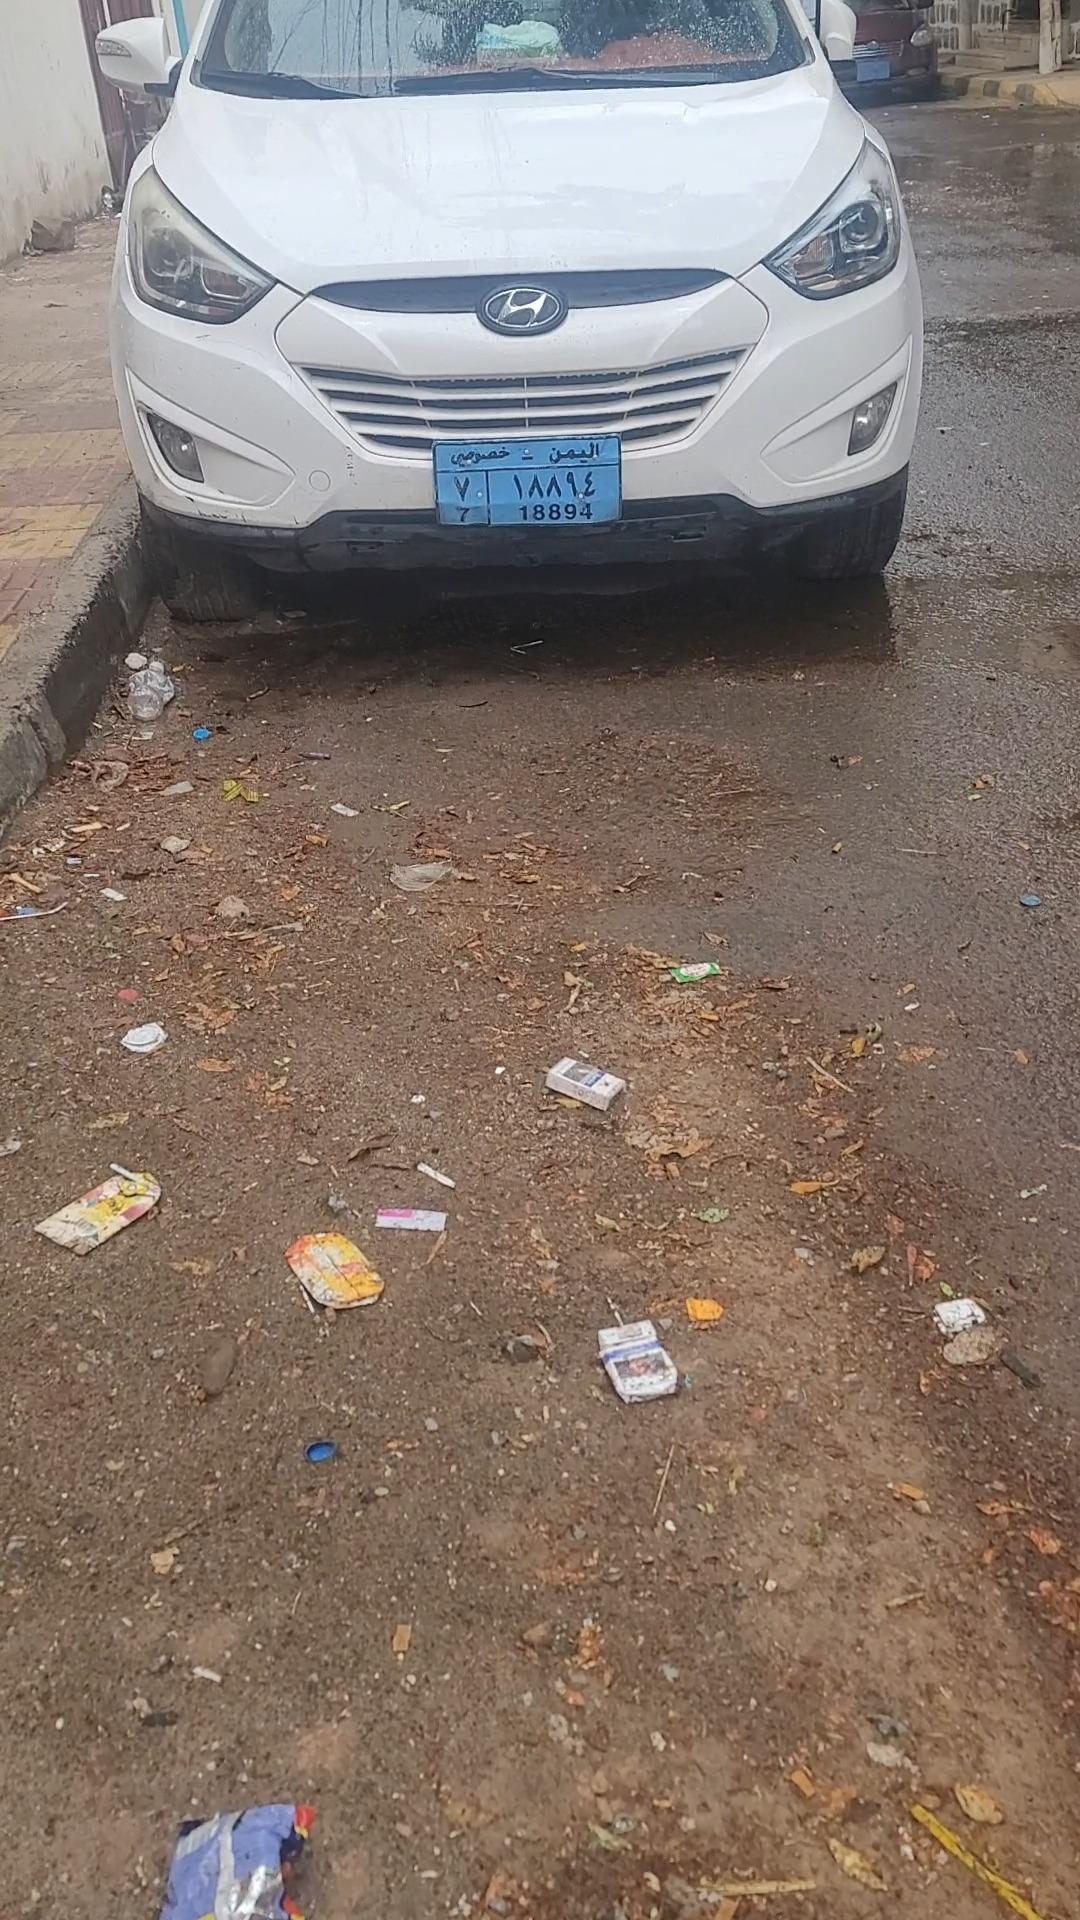privte: (435, 437, 618, 523)
